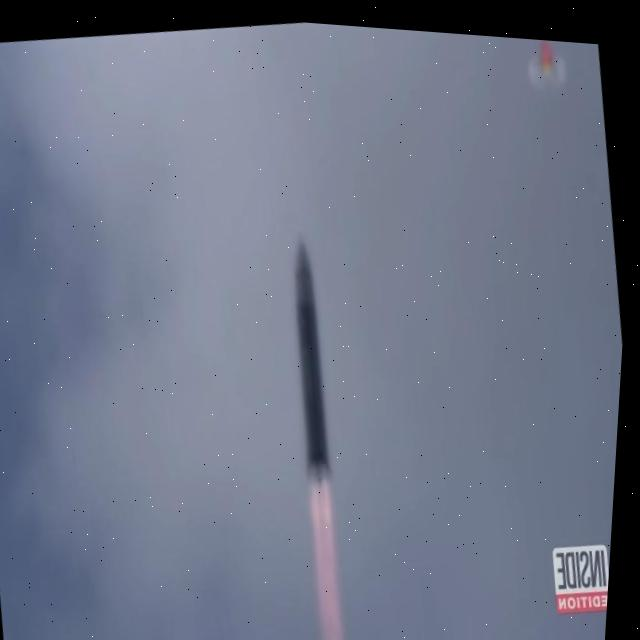missile: (272, 229, 356, 478)
